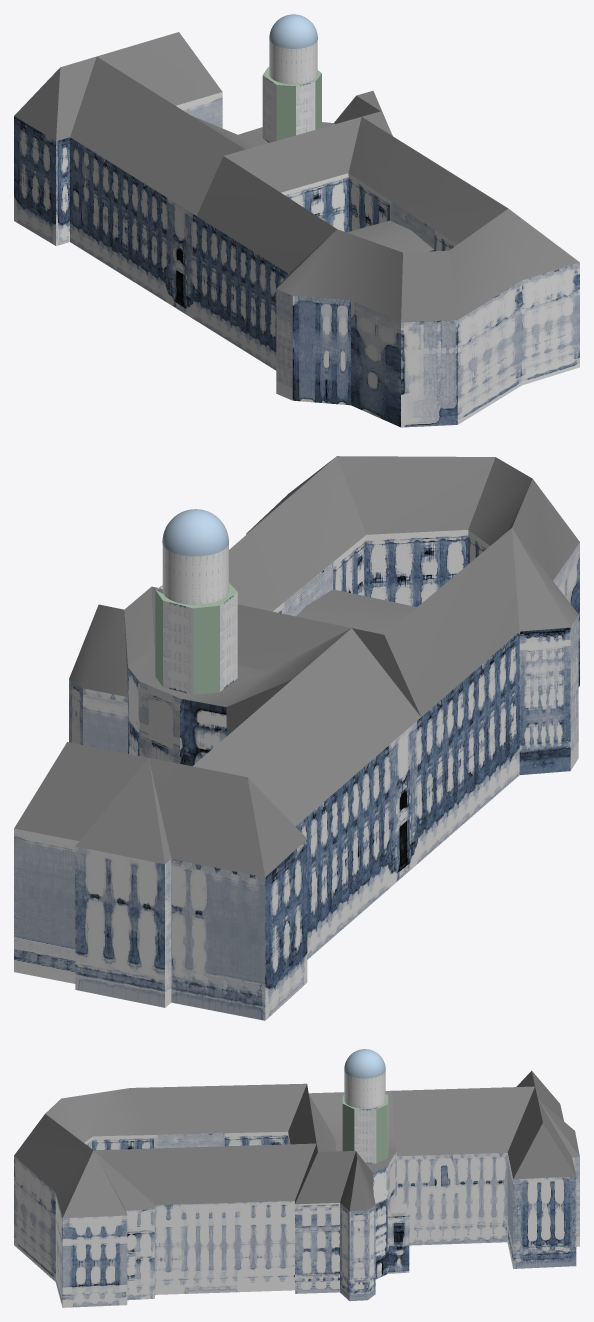
The model's file is Beyer-Bau.gltf.
The picture shows the model from 3 angles, top to bottom: view 1: azimuth 30°, elevation 25°; view 2: azimuth 150°, elevation 25°; view 3: azimuth 270°, elevation 25°; orthographic projection. The views are drawn at different scales.
Parts seen in each view (by area): view 1: Dach.1; view 2: Dach.1; view 3: Dach.1.
Part boxes in pixels (x1,y1,x2,y2): Dach.1: [14, 14, 579, 427]; Dach.1: [14, 456, 579, 1020]; Dach.1: [14, 1049, 579, 1307].
Size of the model in its own units: 53.42 by 46.06 by 112.
34 materials, 30 textured.
